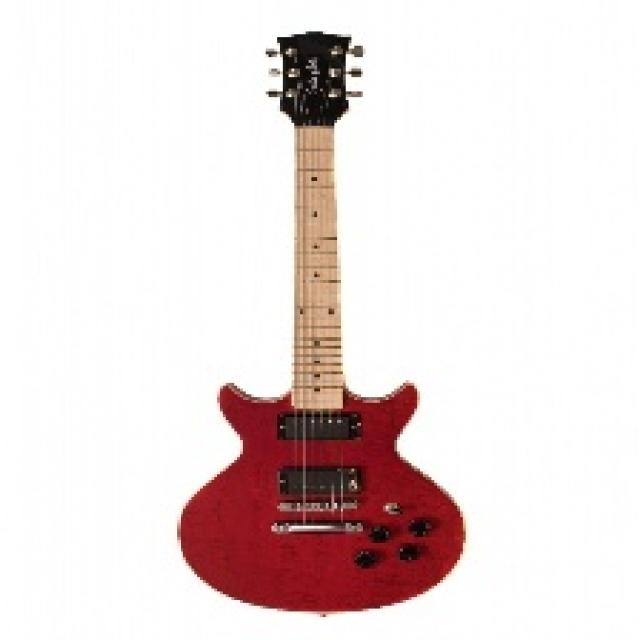guitar: (171, 30, 471, 621)
